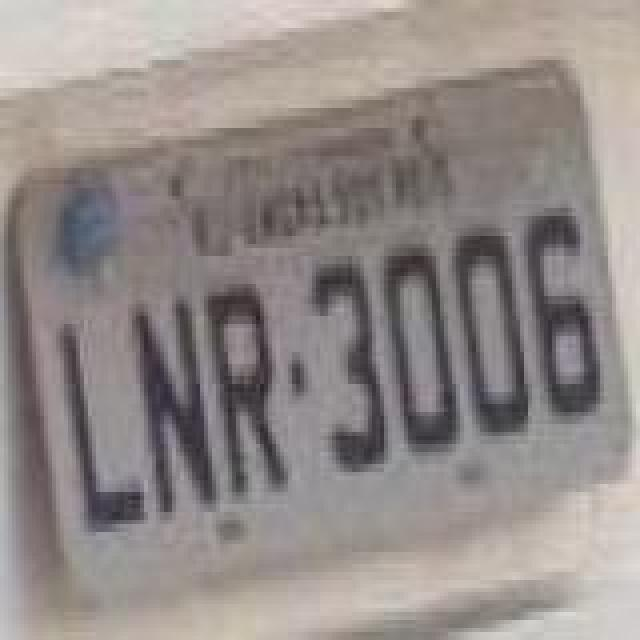3: (314, 256, 390, 472)
6: (526, 212, 602, 420)
L: (62, 324, 146, 532)
N: (134, 294, 218, 522)
O: (386, 248, 462, 456), (454, 232, 530, 440)
R: (210, 280, 286, 496)
